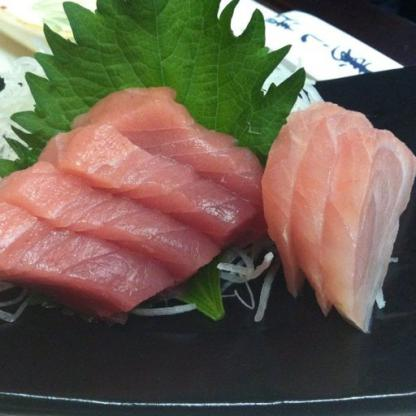tuna: (0, 84, 278, 314), (268, 95, 412, 319)
